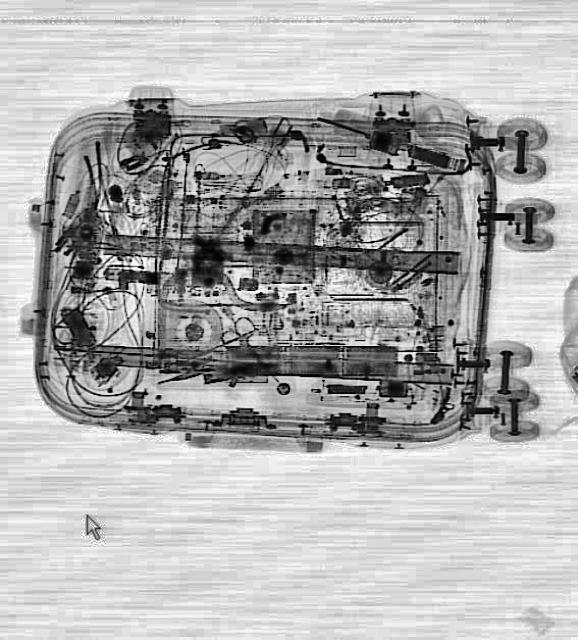Scissors: (218, 312, 292, 390)
